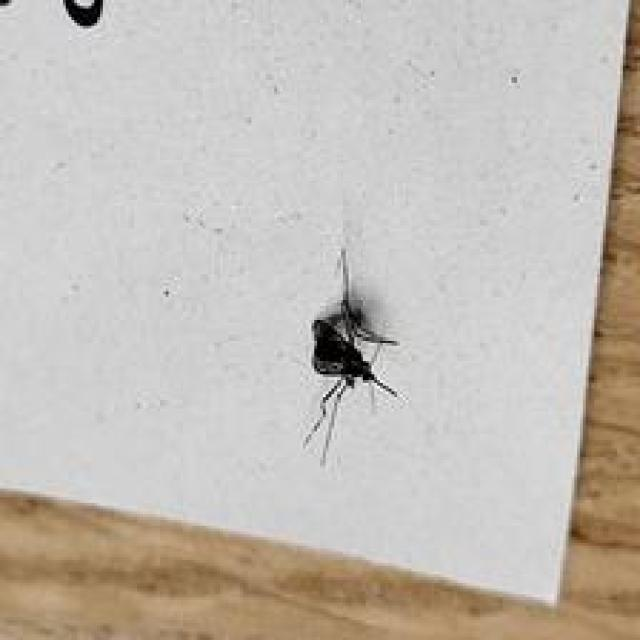Aedes albopictus: (302, 247, 402, 467)
